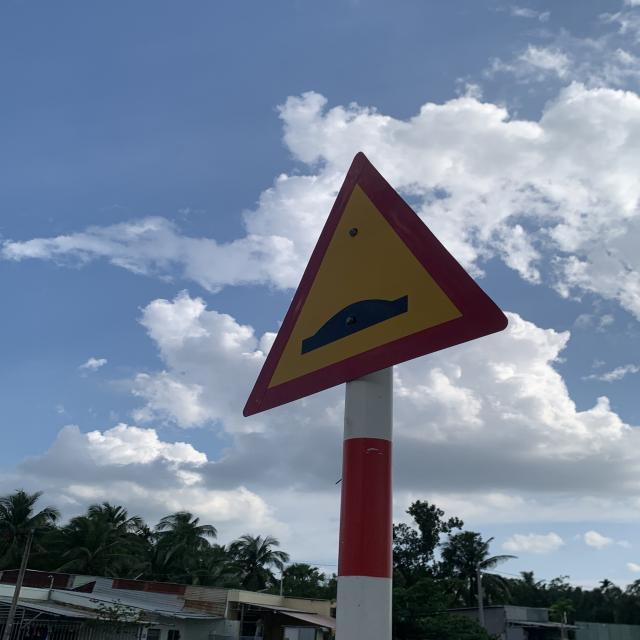Duong_Cong_Ben_Phai: (246, 156, 507, 422)
